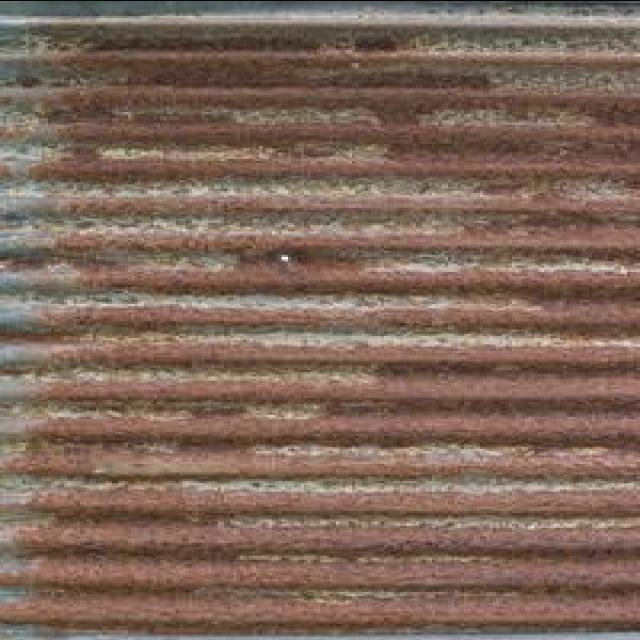wall_corrosion: (0, 25, 640, 640)
